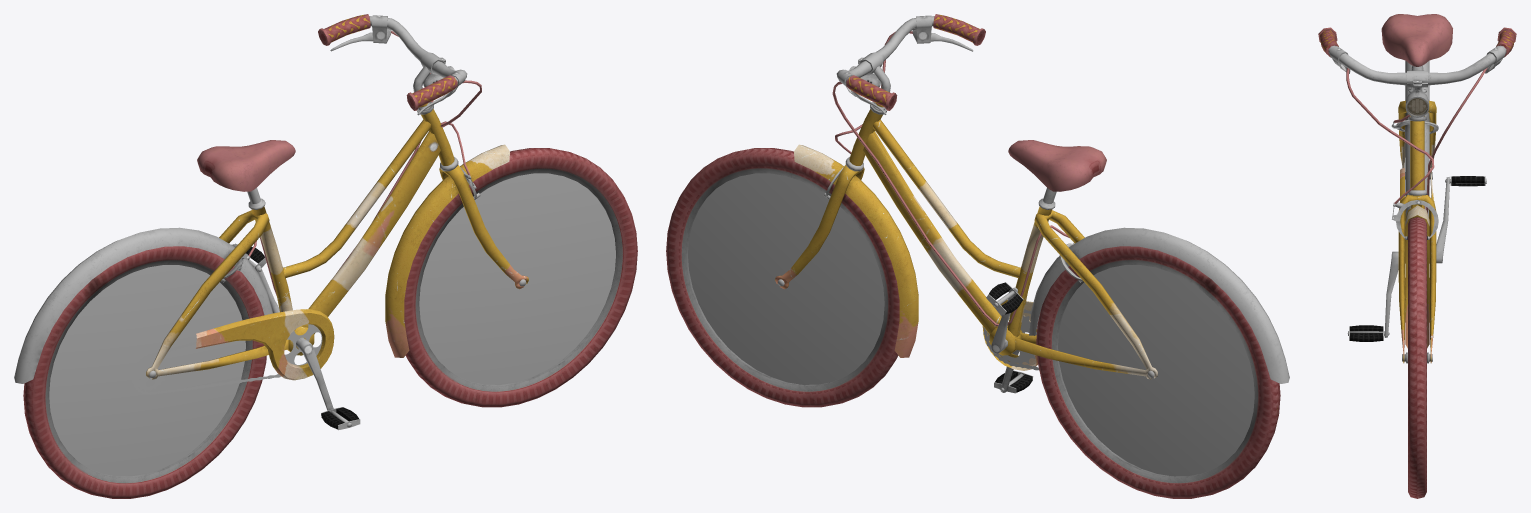
File: bike.fbx
The picture shows the model from 3 angles, left to right: view 1: azimuth 30°, elevation 25°; view 2: azimuth 150°, elevation 25°; view 3: azimuth 270°, elevation 25°; orthographic projection.
Visible parts, largest first — view 1: P07_Front_Wheel, P08_Rear_Wheel, P01_Frame, P06_Rear_Mudguard, P09_Drivetrain, P05_Front_Mudguard, P04_Saddle, P03_Handlebar, P11_Brake_Assemblies, P10_Pedals, P02_Front_Fork; view 2: P07_Front_Wheel, P08_Rear_Wheel, P01_Frame, P06_Rear_Mudguard, P05_Front_Mudguard, P04_Saddle, P03_Handlebar, P11_Brake_Assemblies, P09_Drivetrain, P10_Pedals, P02_Front_Fork; view 3: P07_Front_Wheel, P04_Saddle, P03_Handlebar, P11_Brake_Assemblies, P02_Front_Fork, P10_Pedals, P01_Frame, P06_Rear_Mudguard, P05_Front_Mudguard, P12_Front_Lamp.
Boxes of the visible parts, x1,y1,x2,y2 form: P07_Front_Wheel: (404,148,637,407); P08_Rear_Wheel: (23,246,266,498); P01_Frame: (146,102,454,379); P06_Rear_Mudguard: (14,227,272,383); P09_Drivetrain: (132,237,355,394); P05_Front_Mudguard: (385,144,509,357); P04_Saddle: (197,140,295,203); P03_Handlebar: (318,14,467,110); P11_Brake_Assemblies: (221,15,481,282); P10_Pedals: (245,247,360,430); P02_Front_Fork: (439,157,528,289); P07_Front_Wheel: (666,148,899,407); P08_Rear_Wheel: (1036,246,1280,498); P01_Frame: (849,102,1157,379); P06_Rear_Mudguard: (1029,227,1289,383); P05_Front_Mudguard: (794,144,918,357); P04_Saddle: (1008,140,1106,203); P03_Handlebar: (836,14,985,110); P11_Brake_Assemblies: (823,15,1082,282); P09_Drivetrain: (927,225,1069,370); P10_Pedals: (986,282,1033,393); P02_Front_Fork: (775,157,864,289); P07_Front_Wheel: (1402,217,1432,498); P04_Saddle: (1381,14,1452,70); P03_Handlebar: (1318,27,1516,90); P11_Brake_Assemblies: (1329,45,1505,239); P02_Front_Fork: (1398,190,1436,363); P10_Pedals: (1347,176,1486,341); P01_Frame: (1398,87,1436,208); P06_Rear_Mudguard: (1405,60,1429,216); P05_Front_Mudguard: (1405,205,1429,348); P12_Front_Lamp: (1405,89,1429,117).
Size of the model in its own units: 1.74 by 1.03 by 0.4737.
Materials: 16 (16 with a texture image).
